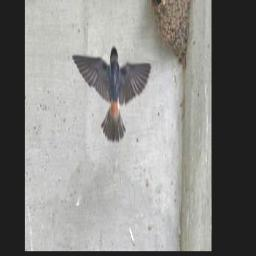Swallow: (69, 43, 152, 143)
